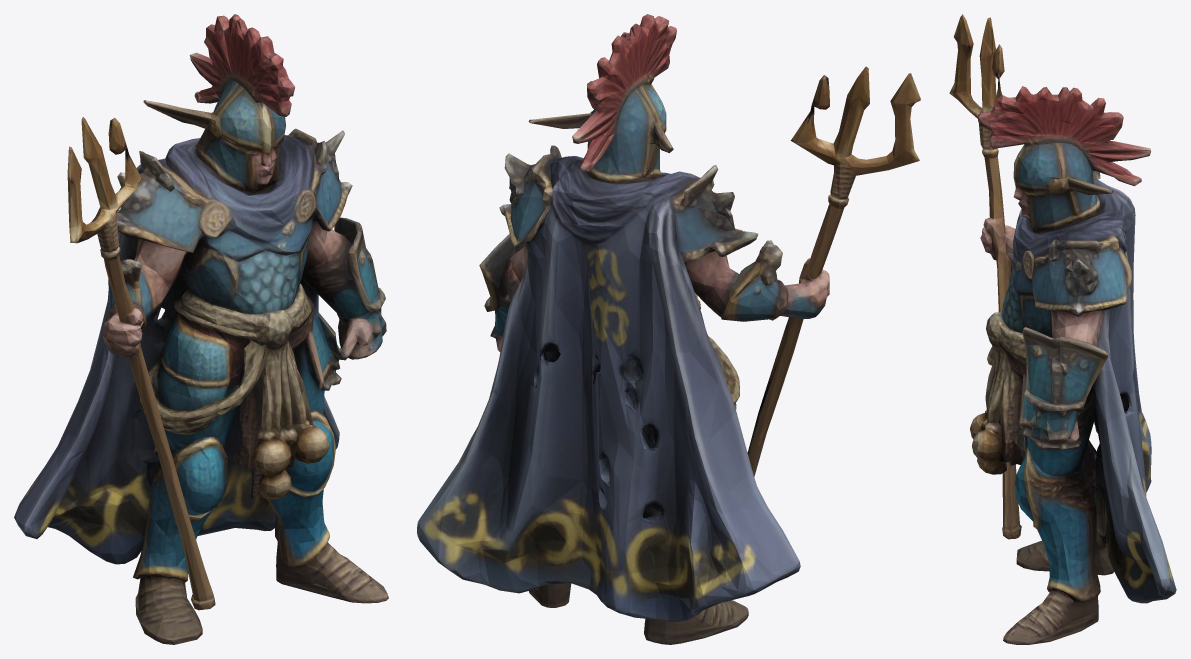
Rendered from naumachiaAdmiral.glb.
The picture shows the model from 3 angles, left to right: view 1: azimuth 30°, elevation 25°; view 2: azimuth 150°, elevation 25°; view 3: azimuth 270°, elevation 25°; orthographic projection. The views are drawn at different scales.
Parts seen in each view (by area): view 1: world; view 2: world; view 3: world.
Boxes of the visible parts, x1=… form: world: x1=14, y1=14, x2=388, y2=644; world: x1=417, y1=14, x2=920, y2=644; world: x1=949, y1=14, x2=1176, y2=644.
Size of the model in its own units: 0.7015 by 1 by 0.4063.
1 material, 1 textured.
